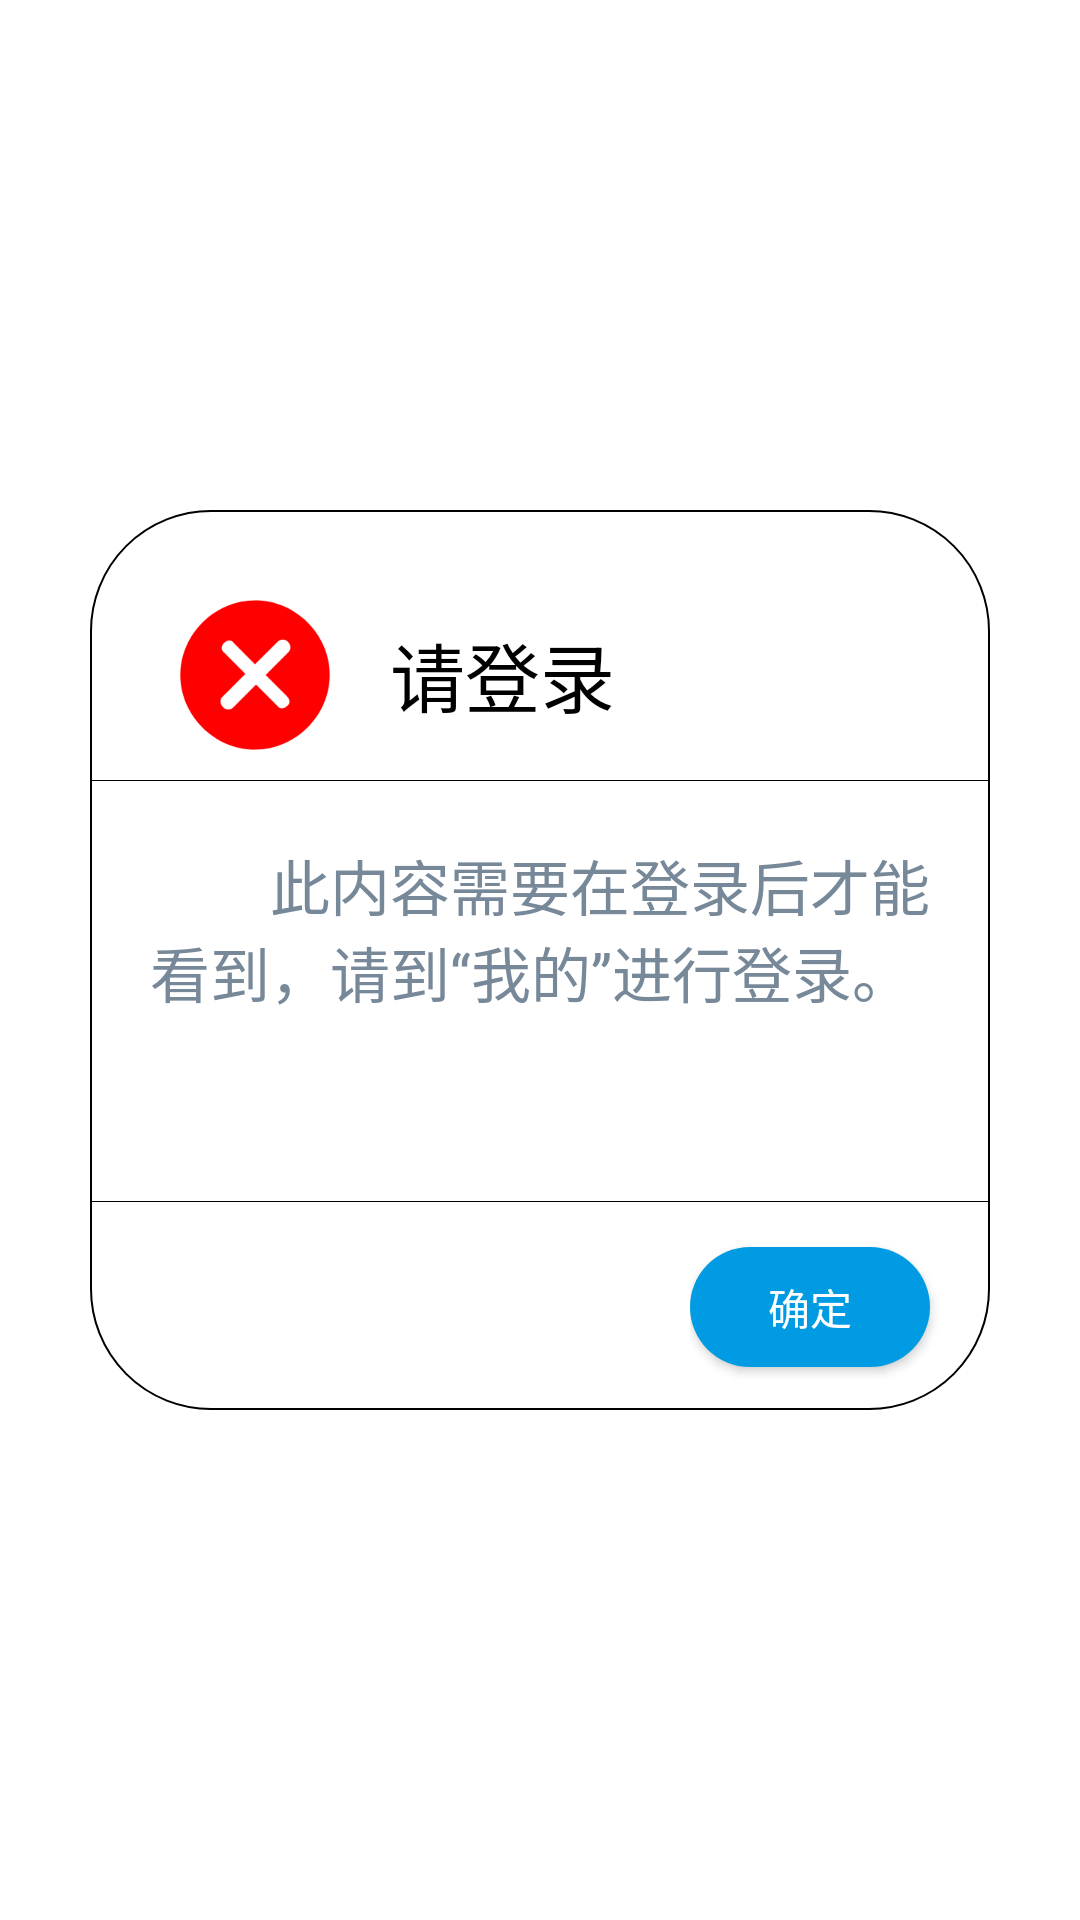

Named icons in this screenshot (1080px x 1920px) and their bounding boxes, box=[x1, y1, x2, y2]:
cross: box=[180, 600, 330, 750]
